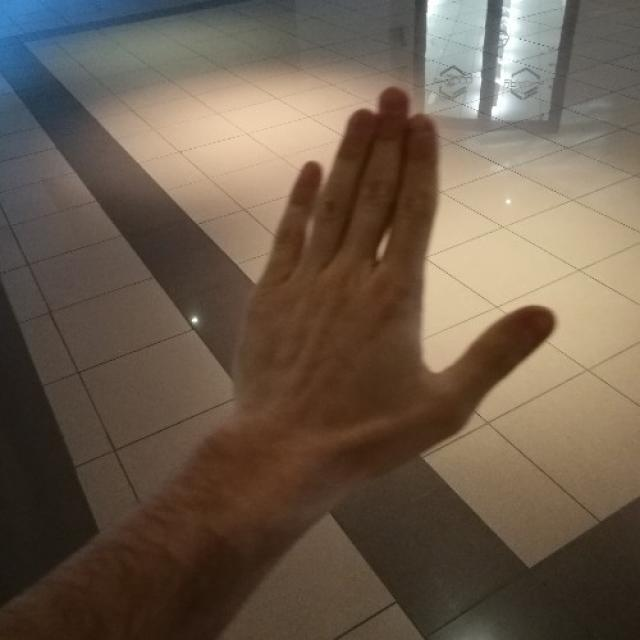paper: (232, 85, 561, 472)
